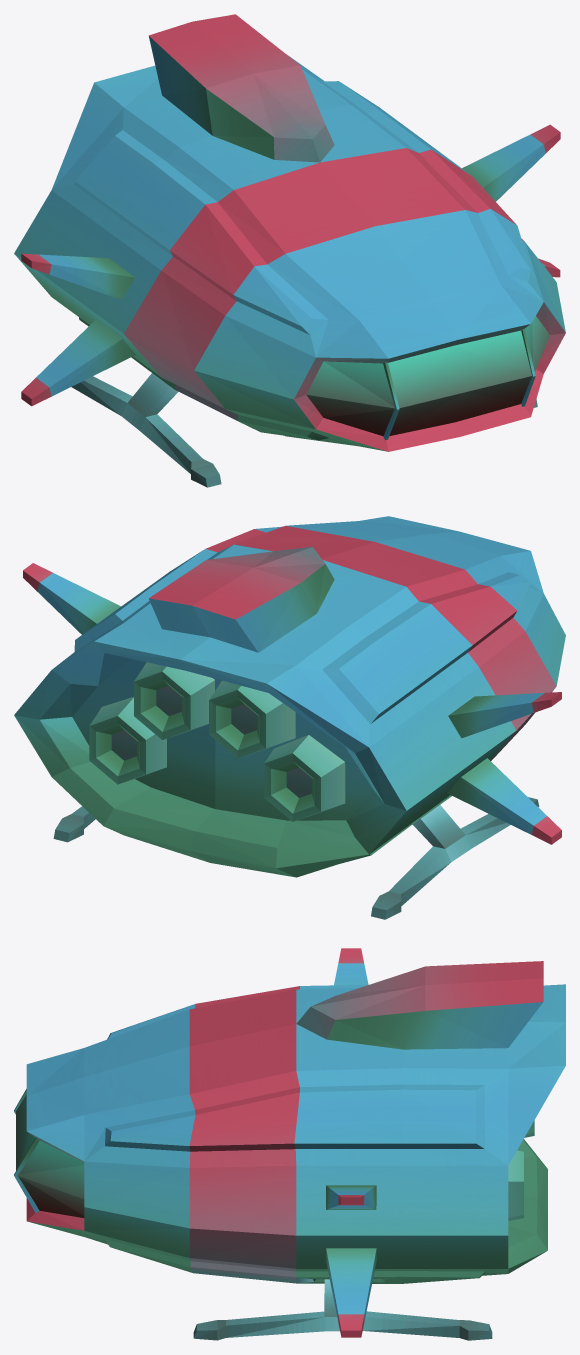
The model's file is Spaceship_D_skin3.FBX.
3 renders of one model, top to bottom at view 1: azimuth 30°, elevation 25°; view 2: azimuth 150°, elevation 25°; view 3: azimuth 270°, elevation 25°, orthographic. The views are drawn at different scales.
Parts seen in each view (by area): view 1: Ship_D_skin3, wing_D_skin_skin3 (×2), landing_gear_D_skin3, wing_D_skin3; view 2: Ship_D_skin3, wing_D_skin_skin3 (×2), landing_gear_D_skin3 (×2), wing_D_skin3; view 3: Ship_D_skin3, landing_gear_D_skin3, wing_D_skin3 (×2), wing_D_skin_skin3.
Boxes of the visible parts, left/top/right/bottom form: Ship_D_skin3: left=14, top=14, right=565, bottom=451; wing_D_skin_skin3 (×2): left=21, top=253, right=135, bottom=406; landing_gear_D_skin3: left=71, top=373, right=221, bottom=487; wing_D_skin3: left=462, top=124, right=560, bottom=201; Ship_D_skin3: left=14, top=516, right=565, bottom=877; wing_D_skin_skin3 (×2): left=447, top=692, right=561, bottom=844; landing_gear_D_skin3 (×2): left=53, top=797, right=539, bottom=919; wing_D_skin3: left=23, top=563, right=120, bottom=634; Ship_D_skin3: left=14, top=961, right=565, bottom=1283; landing_gear_D_skin3: left=193, top=1279, right=492, bottom=1340; wing_D_skin3 (×2): left=326, top=1185, right=376, bottom=1337; wing_D_skin_skin3: left=334, top=948, right=368, bottom=985.
Bounding box in the file's own units: 17.81 × 9.43 × 16.68.
